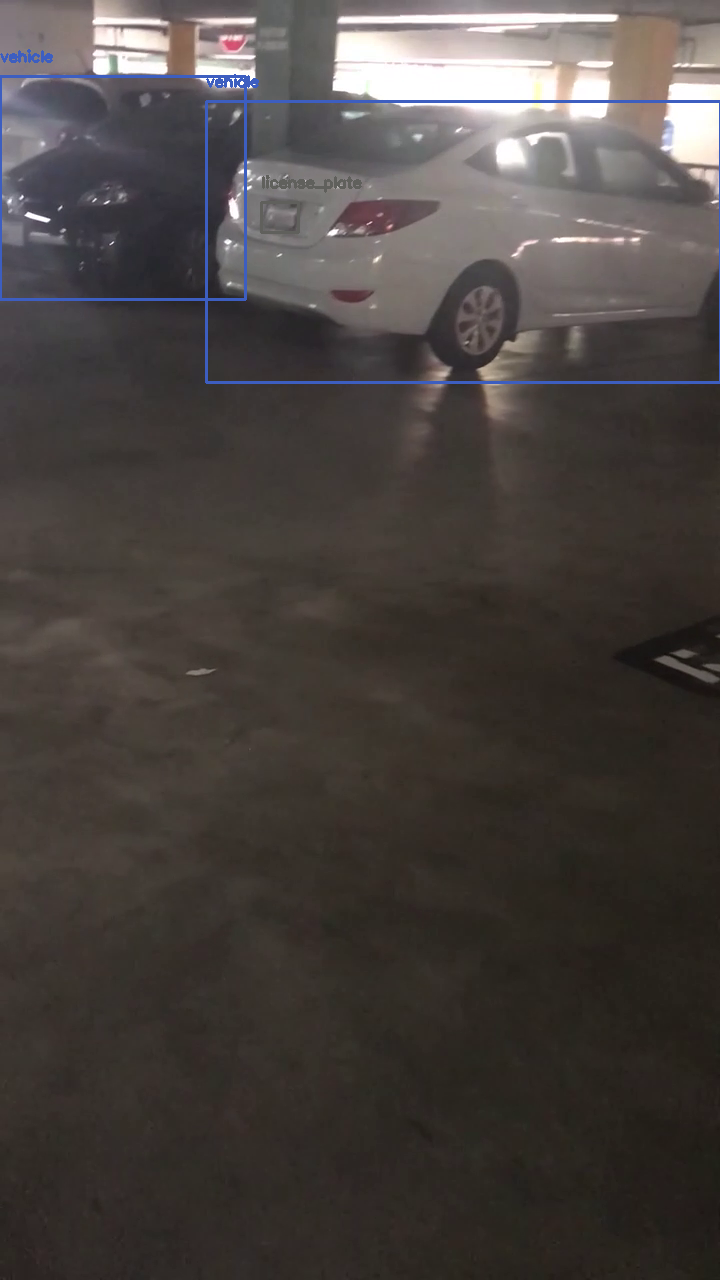license_plate: (261, 202, 298, 232)
vehicle: (206, 101, 720, 382), (0, 76, 245, 299)
